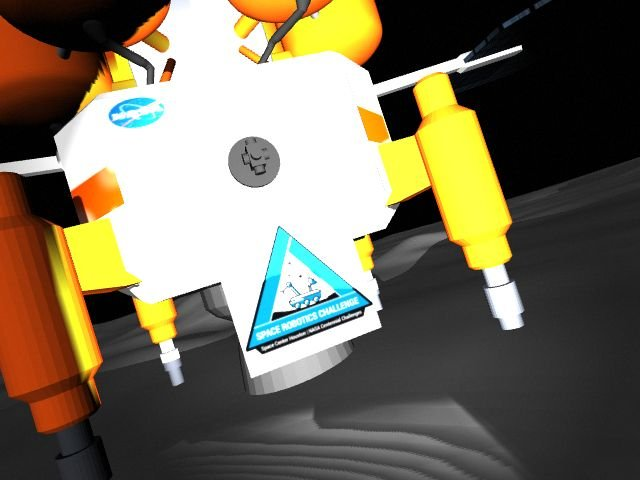basemarker: (244, 224, 374, 354)
